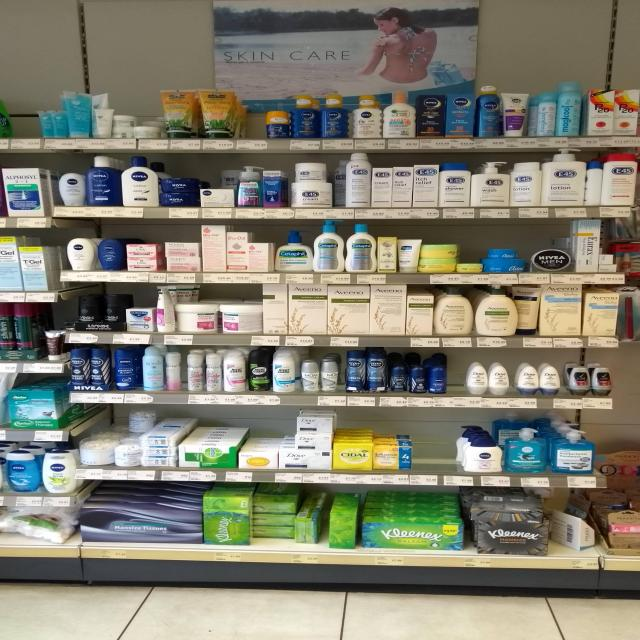empty_space: (420, 416, 448, 471)
